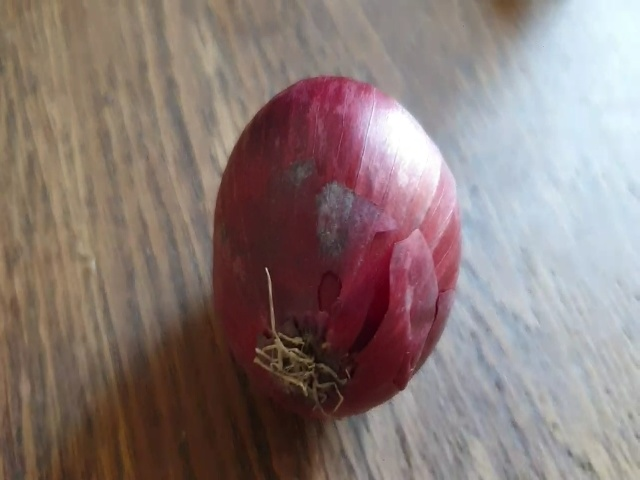red_onion: (204, 70, 469, 427)
